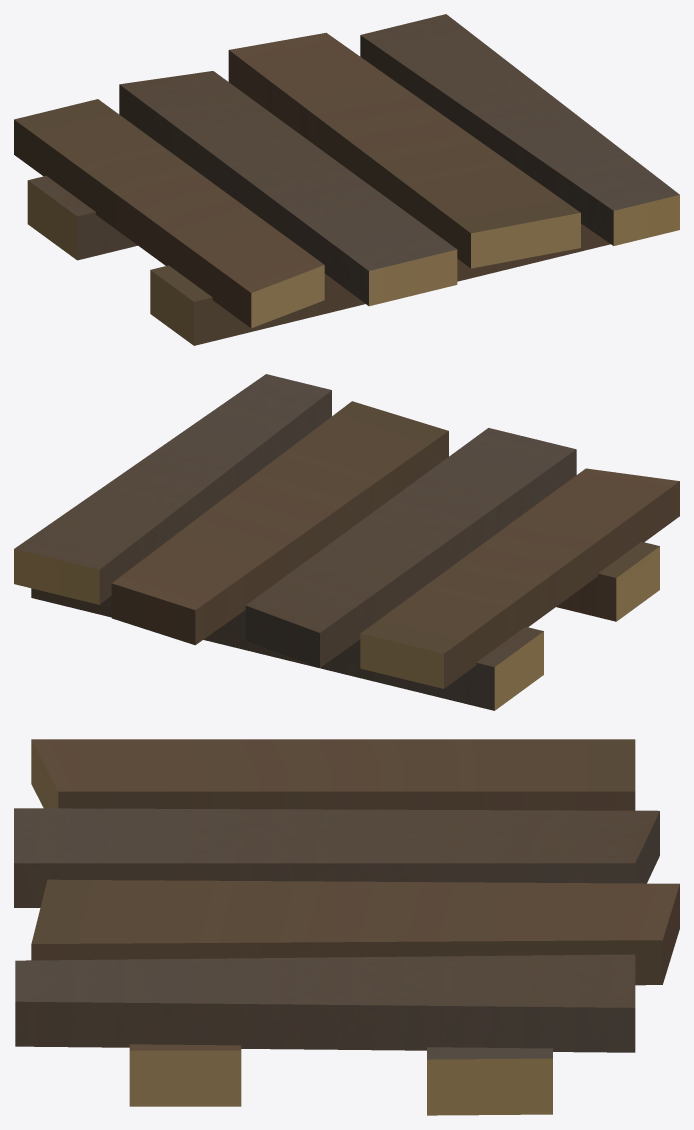
File: SM_Pallet.FBX
3 views of the same model, one above another, from view 1: azimuth 30°, elevation 25°; view 2: azimuth 150°, elevation 25°; view 3: azimuth 270°, elevation 25° (orthographic). The views are drawn at different scales.
Parts seen in each view (by area): view 1: SM_Pallet; view 2: SM_Pallet; view 3: SM_Pallet.
Boxes of the visible parts, left/top/right/bottom form: SM_Pallet: left=14, top=14, right=679, bottom=345; SM_Pallet: left=14, top=374, right=679, bottom=710; SM_Pallet: left=14, top=739, right=679, bottom=1115.
Size of what is drawn, in the model's own units: 137 by 133 by 21.49.
